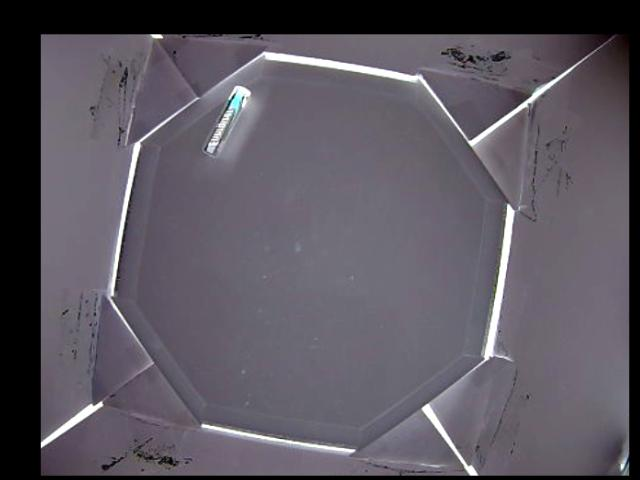Battery: (202, 85, 250, 158)
